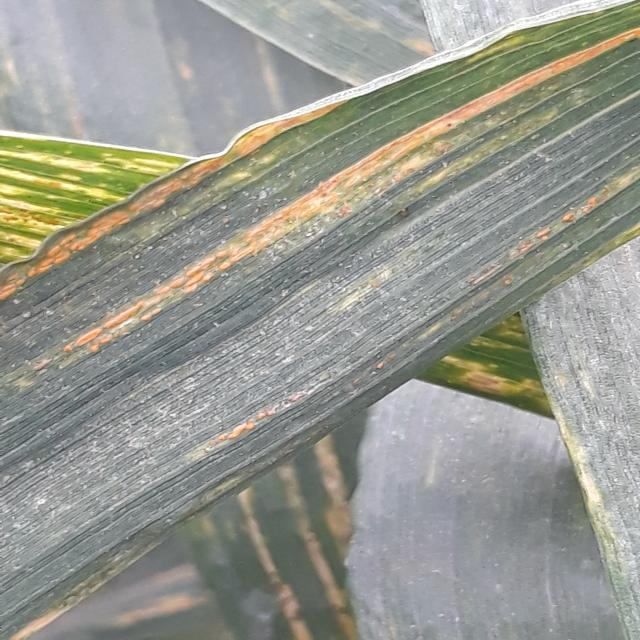yellow_rust: (6, 0, 640, 639), (0, 2, 329, 161), (515, 237, 640, 640), (180, 409, 370, 640), (4, 135, 190, 270), (201, 0, 430, 79), (418, 307, 552, 419)
